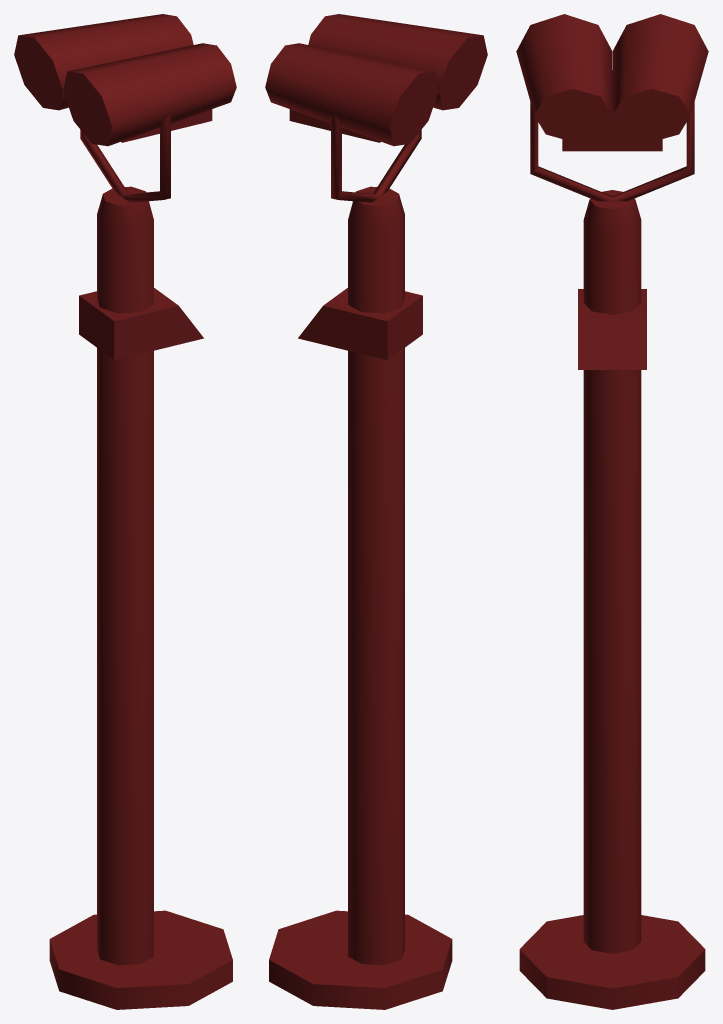
File: SM_Binoculars_v01.FBX
3 renders of one model, left to right at view 1: azimuth 30°, elevation 25°; view 2: azimuth 150°, elevation 25°; view 3: azimuth 270°, elevation 25°, orthographic. The views are drawn at different scales.
Visible parts, largest first — view 1: SM_Binoculars_01_000; view 2: SM_Binoculars_01_000; view 3: SM_Binoculars_01_000.
Part boxes in pixels (x1,y1,x2,y2): SM_Binoculars_01_000: (14,14,236,1009); SM_Binoculars_01_000: (265,14,487,1009); SM_Binoculars_01_000: (516,14,708,1009).
Bounding box in the file's own units: 0.4767 × 2.59 × 0.4923.
1 material, 1 textured.
